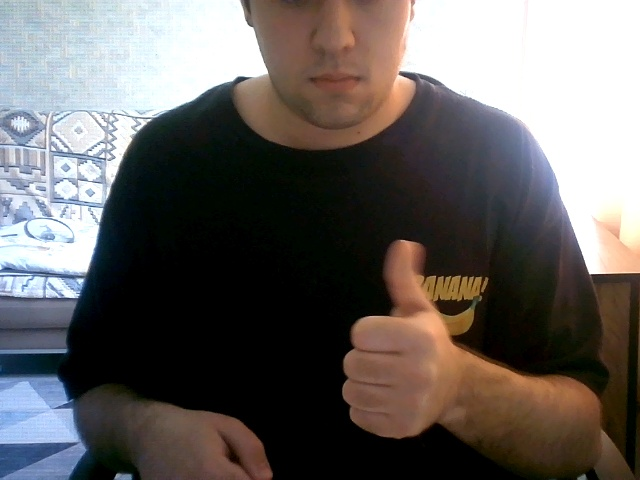good: (334, 237, 457, 451)
